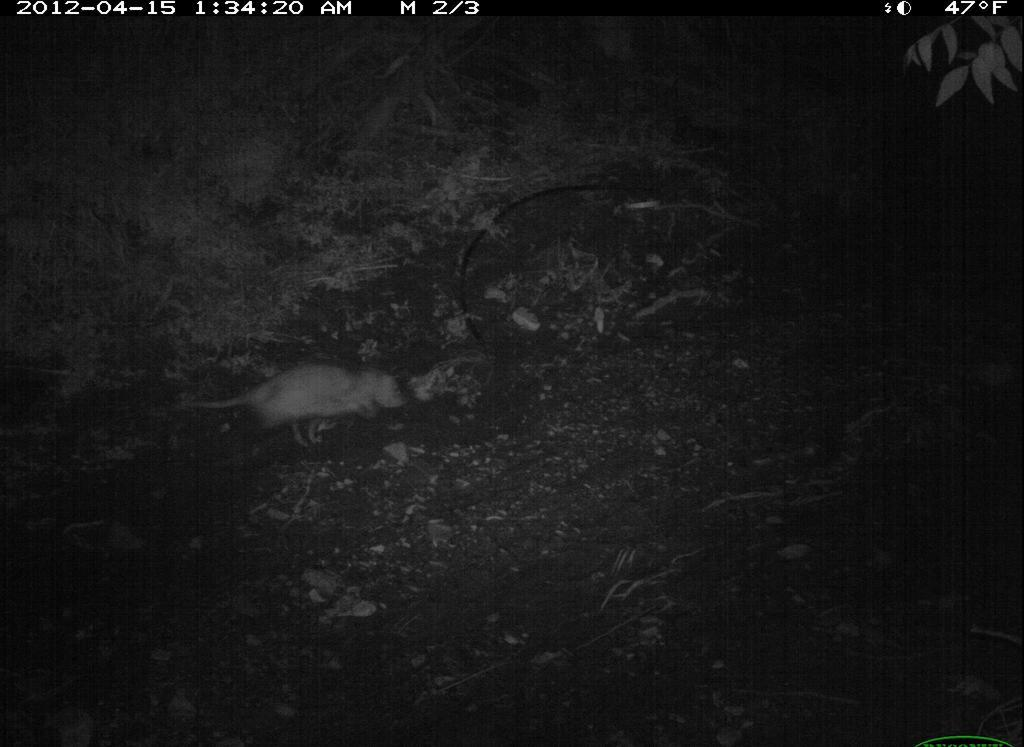opossum: (171, 353, 441, 456)
